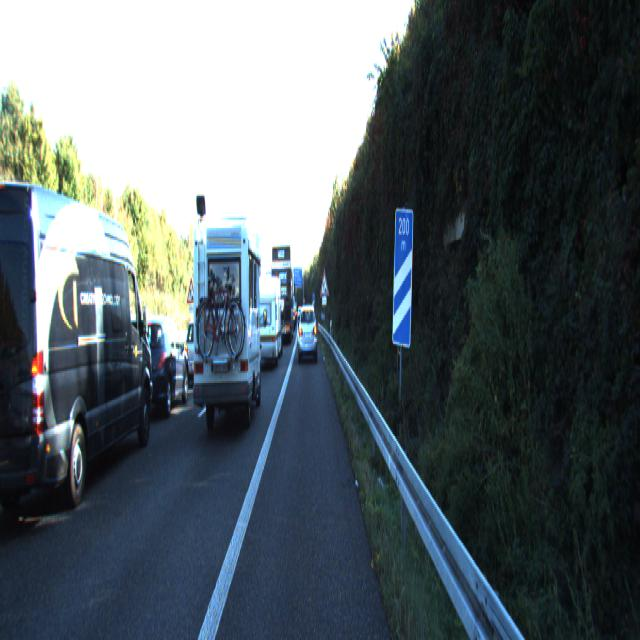Car: (0, 173, 154, 540), (192, 220, 264, 438), (128, 312, 190, 418), (251, 270, 281, 368), (272, 240, 293, 340), (298, 301, 317, 361)
